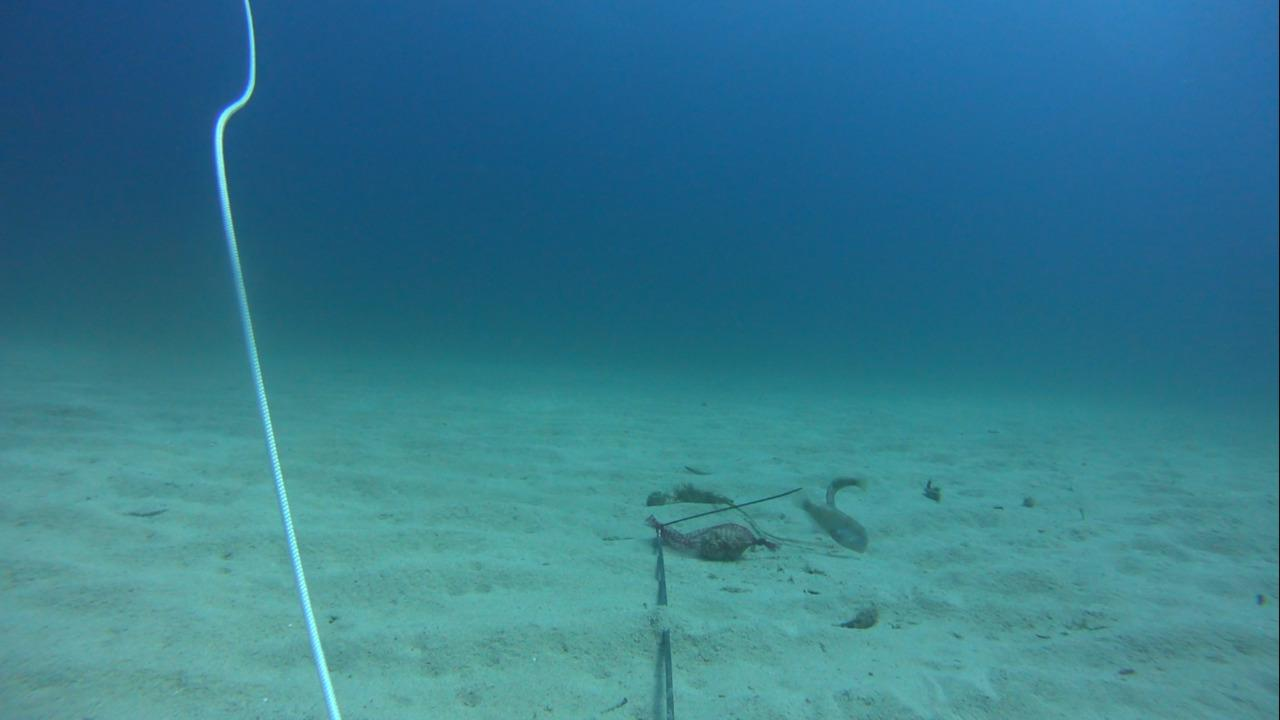raor: (793, 494, 872, 555)
